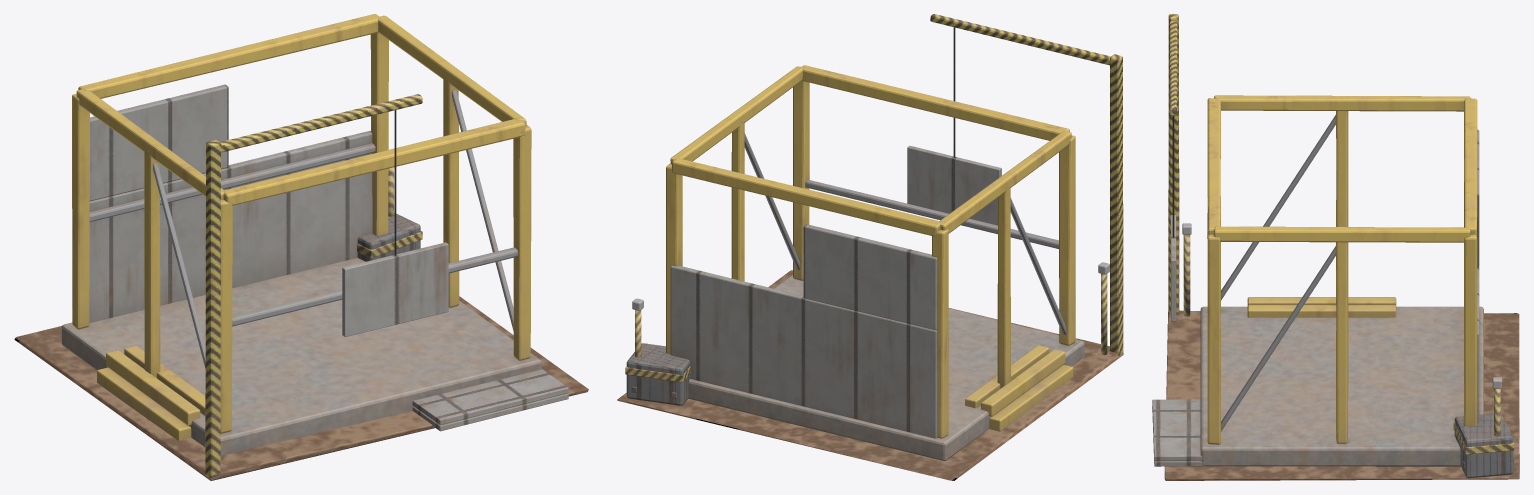
File: site_1.glb
3 views of the same model, side by side, from view 1: azimuth 30°, elevation 25°; view 2: azimuth 150°, elevation 25°; view 3: azimuth 270°, elevation 25° (orthographic). The views are drawn at different scales.
Visible parts, largest first — view 1: site_1; view 2: site_1; view 3: site_1.
Part boxes in pixels (x1,y1,x2,y2): site_1: [14, 14, 588, 480]; site_1: [617, 14, 1123, 480]; site_1: [1152, 14, 1519, 480].
Bounding box in the file's own units: 2.93 × 2.48 × 2.72.
2 materials, 1 textured.
